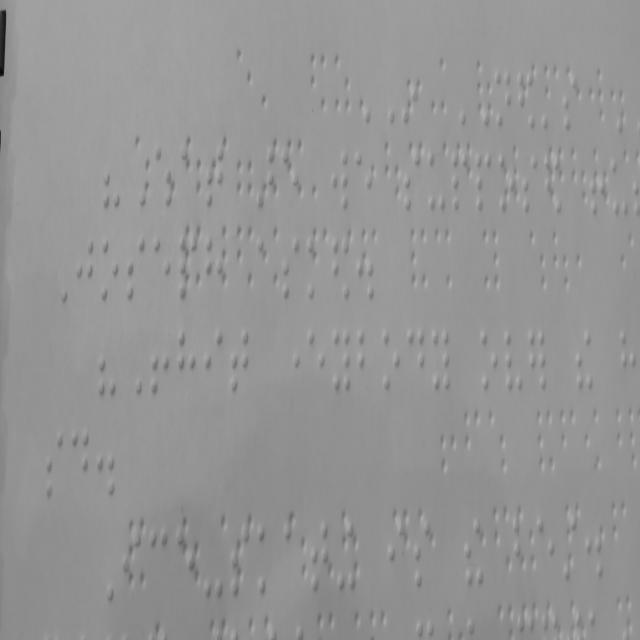braiile: (385, 504, 409, 595), (254, 518, 278, 607), (174, 525, 197, 616), (146, 521, 168, 615), (412, 512, 436, 595), (282, 512, 304, 602), (229, 520, 251, 608), (308, 514, 330, 601), (68, 424, 91, 507), (120, 526, 142, 612), (378, 320, 401, 402), (228, 324, 252, 402), (329, 321, 352, 402), (174, 320, 197, 400), (201, 320, 224, 400), (44, 426, 66, 508), (202, 139, 225, 217), (502, 321, 524, 402), (476, 321, 499, 398), (177, 226, 199, 303), (305, 320, 326, 400), (424, 144, 447, 216), (353, 144, 375, 219), (430, 324, 452, 399), (203, 226, 224, 303), (535, 507, 556, 584), (406, 320, 426, 400), (518, 152, 540, 224), (124, 234, 146, 306), (151, 228, 172, 302), (356, 322, 376, 398), (100, 230, 119, 308), (330, 144, 350, 218), (280, 232, 300, 306), (450, 146, 470, 219), (256, 228, 276, 301), (73, 236, 94, 304), (178, 140, 198, 210), (304, 234, 324, 304), (473, 148, 494, 214), (280, 144, 300, 213), (559, 68, 579, 137), (492, 64, 512, 132), (402, 148, 422, 215), (497, 150, 515, 217)
